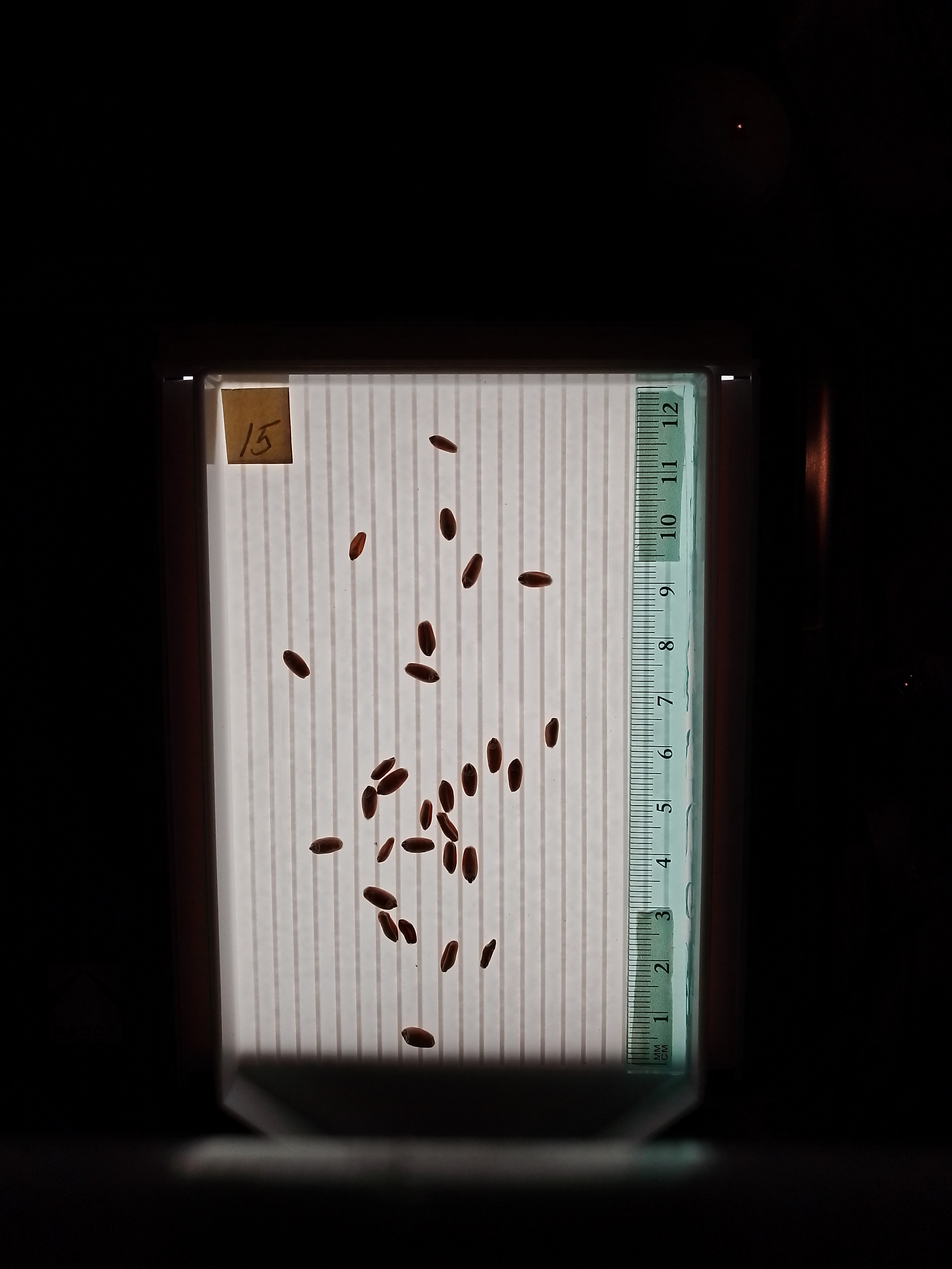seed mask: (377, 768, 408, 796), (364, 886, 397, 911), (283, 651, 310, 678), (402, 1027, 434, 1049), (462, 555, 482, 588), (406, 664, 439, 683), (437, 812, 458, 841), (310, 836, 342, 855), (418, 621, 435, 655), (402, 836, 434, 854), (462, 847, 478, 883), (440, 941, 459, 971), (361, 786, 378, 819), (379, 913, 398, 941), (519, 572, 552, 588), (507, 759, 523, 792), (461, 764, 477, 796), (487, 739, 502, 773), (372, 757, 395, 779), (430, 435, 458, 453), (440, 510, 456, 540), (349, 533, 366, 560), (399, 919, 417, 944), (439, 782, 454, 811), (419, 800, 433, 830), (377, 838, 394, 862), (545, 719, 559, 747), (444, 844, 457, 872)
